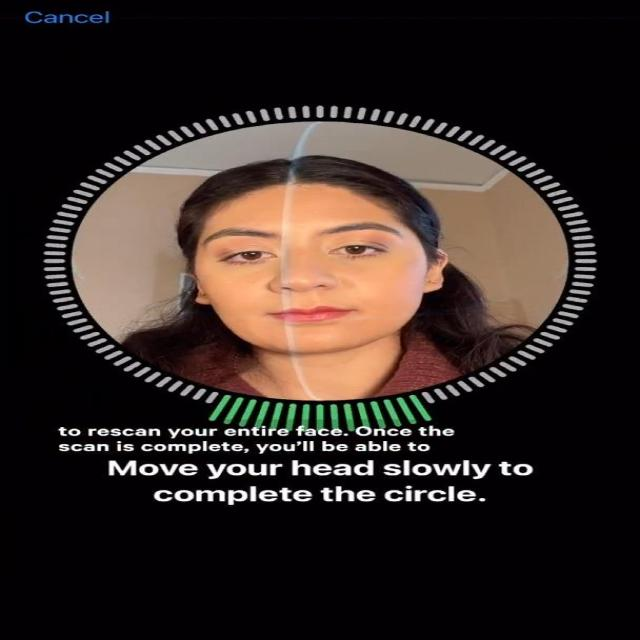NO-Mask: (171, 172, 453, 364)
